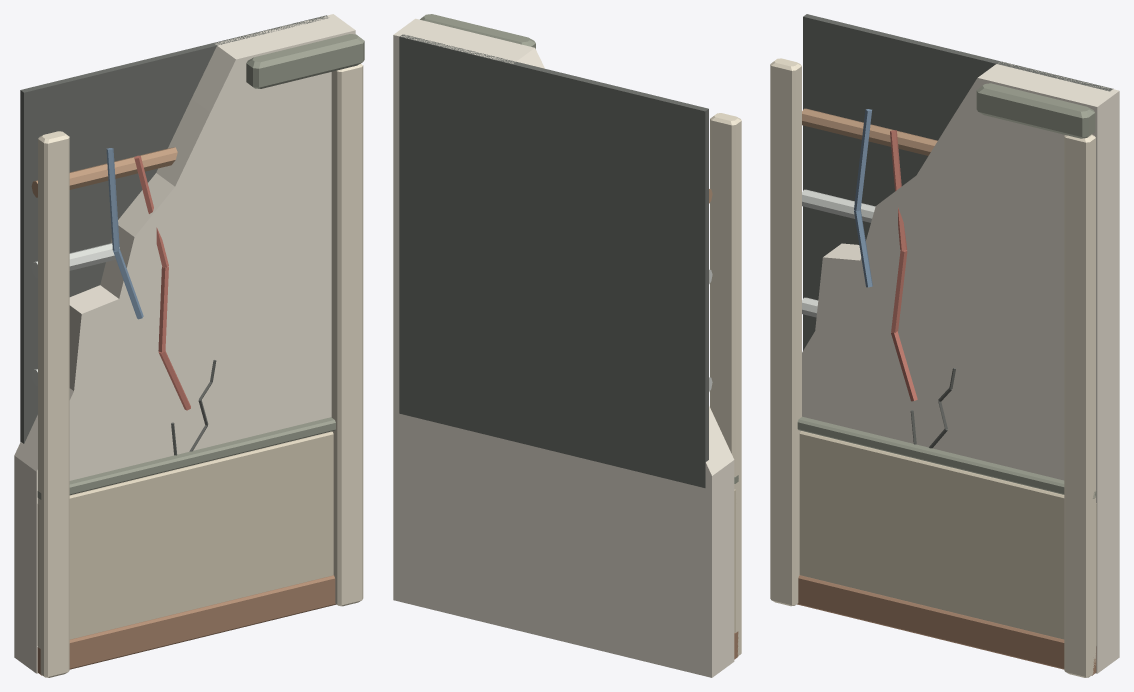
Rendered from lab_wall_panel_damaged.glb.
3 views of the same model, side by side, from view 1: azimuth 30°, elevation 25°; view 2: azimuth 150°, elevation 25°; view 3: azimuth 330°, elevation 25° (orthographic).
Visible parts, largest first — view 1: lab_wall_panel_damaged; view 2: lab_wall_panel_damaged; view 3: lab_wall_panel_damaged.
Part boxes in pixels (bbox=[...]): lab_wall_panel_damaged: bbox=[14, 14, 364, 677]; lab_wall_panel_damaged: bbox=[393, 14, 741, 677]; lab_wall_panel_damaged: bbox=[770, 14, 1119, 677].
Bounding box in the file's own units: 2.48 × 4.2 × 0.455.
